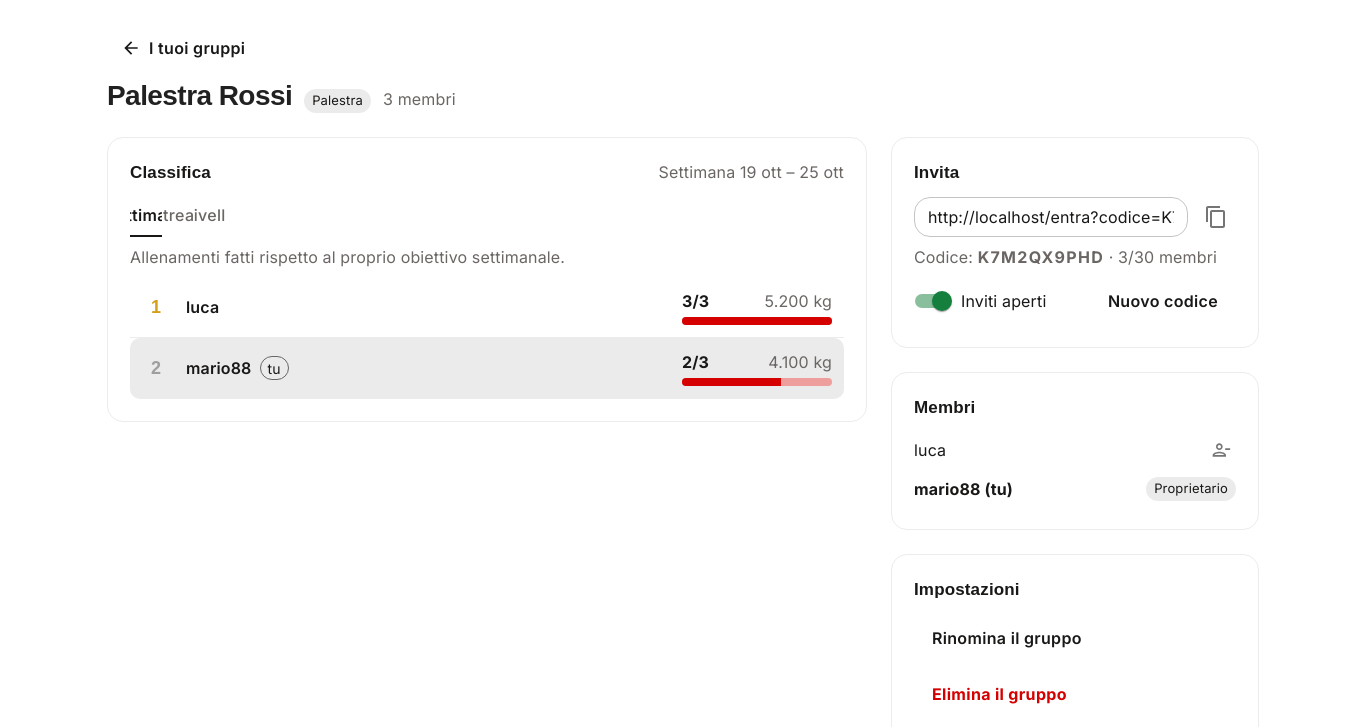
Test case: dettaglio del gruppo › il dialogo di conferma dell'eliminazione ha il bottone pieno rosso
Expected: the text "Classifica" is shown, [130,160,211,185]
Click the button "Elimina il gruppo": x=999, y=694 [914,670,1085,718]
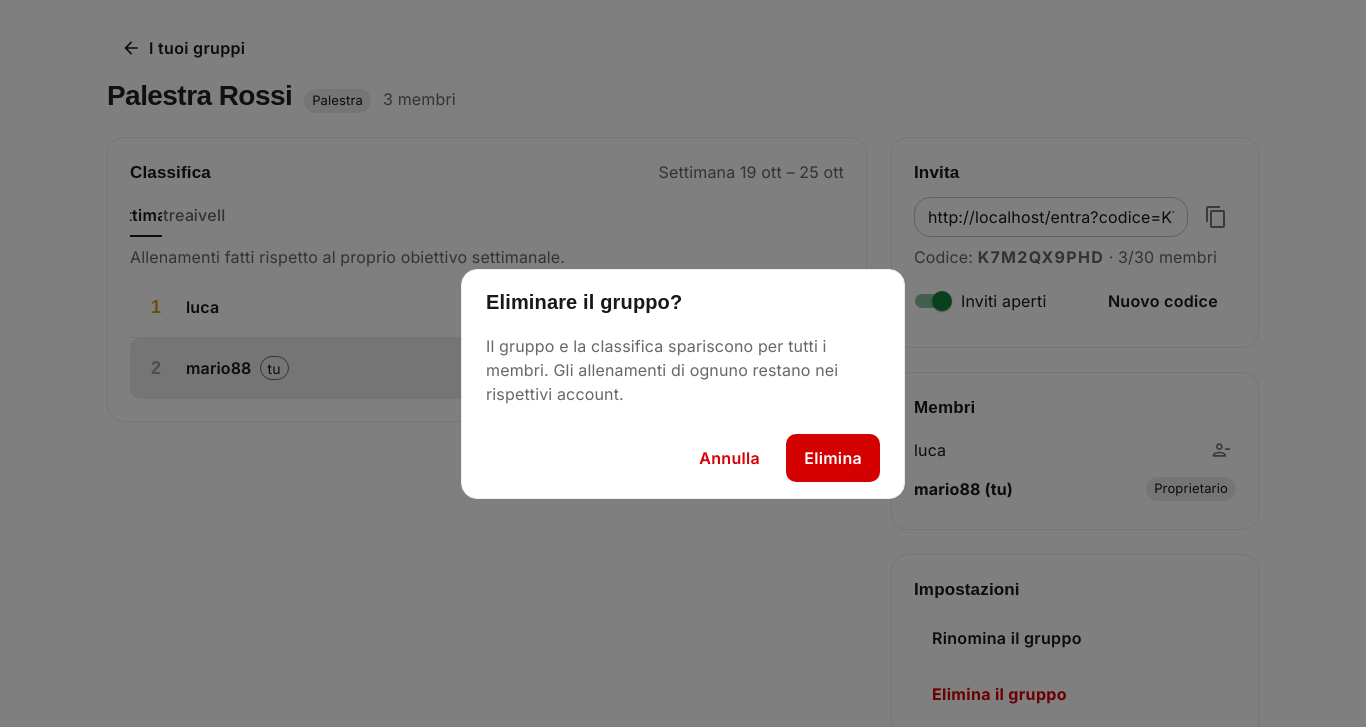
Expected: the button "Elimina" is shown, [786,434,880,482]
